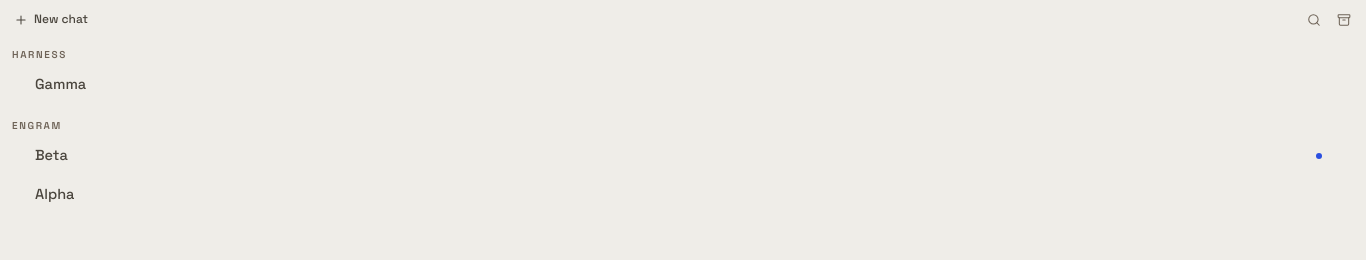
SessionList › multi-select shows the bulk bar and archives each selected id
Expected: the text "Alpha" is shown, [35,185,74,203]
Click the checkbox named "Select Alpha". click: click(683, 194)
box: [8,176,1358,213]
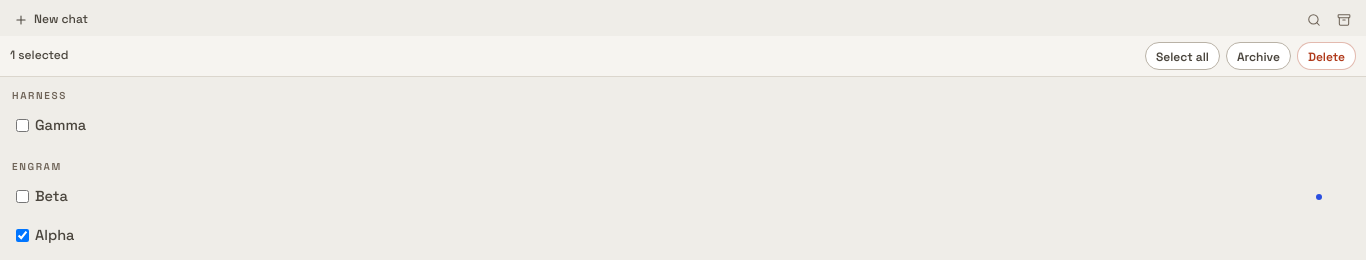
Click the checkbox named "Select Gamma". click: click(22, 126)
box: [16,119,29,132]
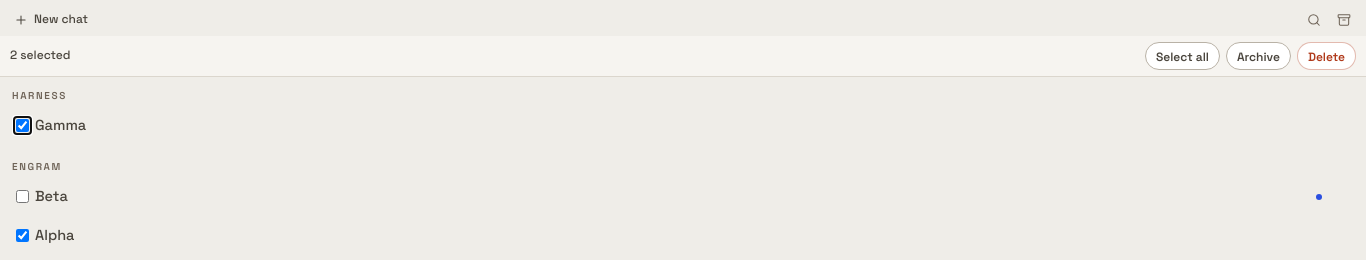
Now the text "2 selected" is shown, box [10,47,70,65]
Click the button "Archive". click: click(1258, 56)
box: [1226,42,1291,70]
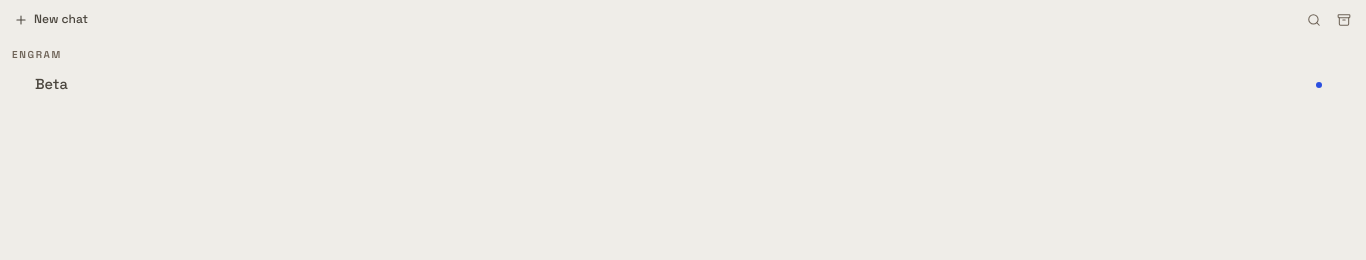
Expected: the text "Beta" is shown, [35,75,68,93]
Now the button "Alpha" is gone
Now the button "Gamma" is gone
